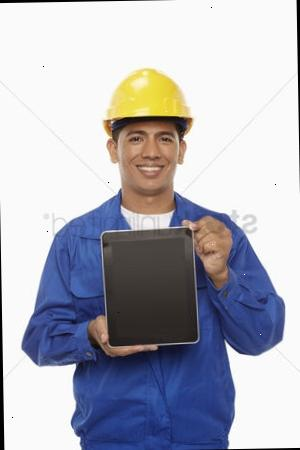helmet: (102, 64, 195, 133)
wear: (66, 203, 235, 442)
